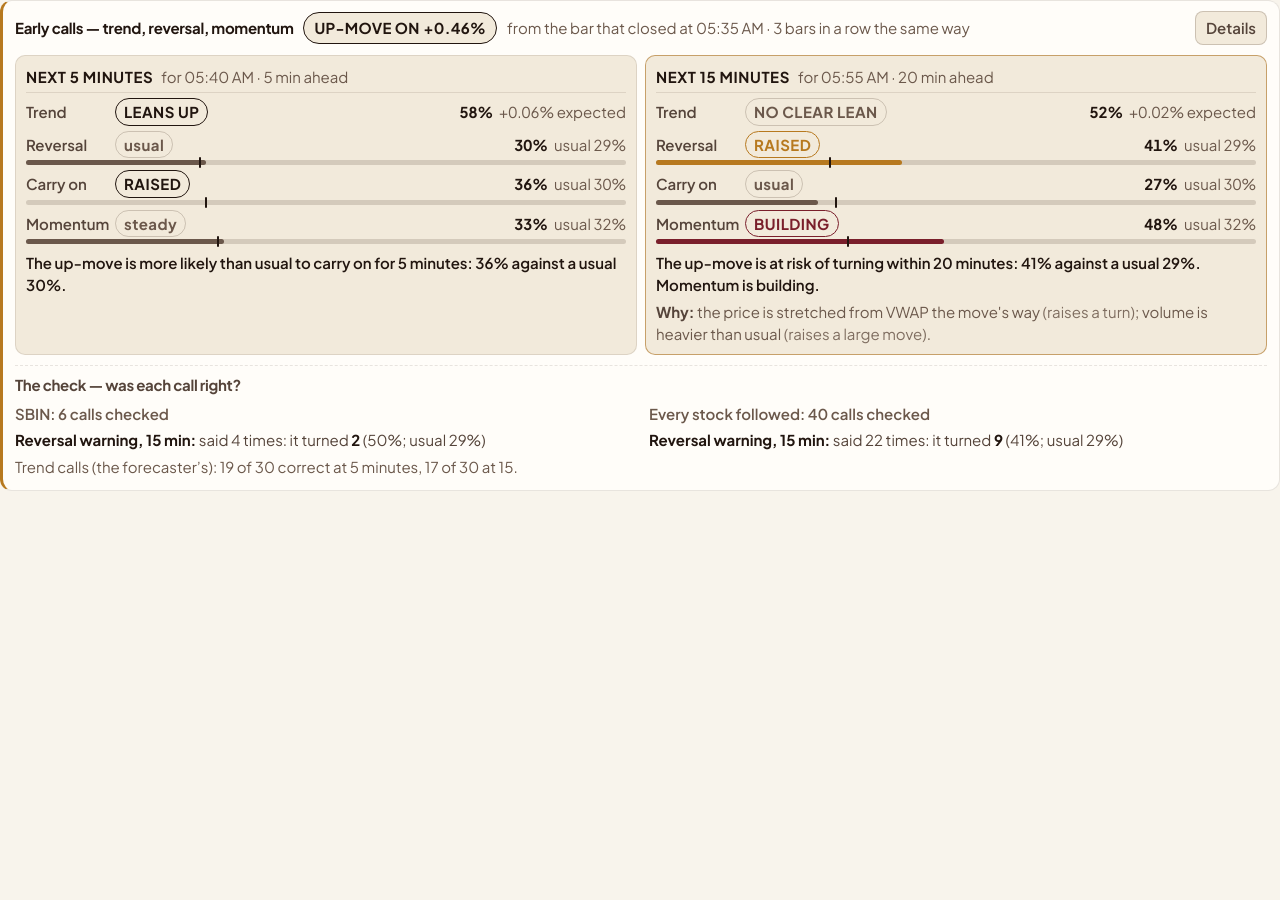
Test: the check is on the card: how often a warned reversal really came, for this stock and for all; the details hold the proof on unseen sessions
Expected: the heading "The check — was each call right?" is shown, [15,374,241,394]
Expected: the text "SBIN: 6 calls checked" is shown, [15,404,169,423]
What coordinates should you click on to do the following:
click the button "Details"
I would click on:
 (1231, 28)
Its box is [1195,11,1267,44].
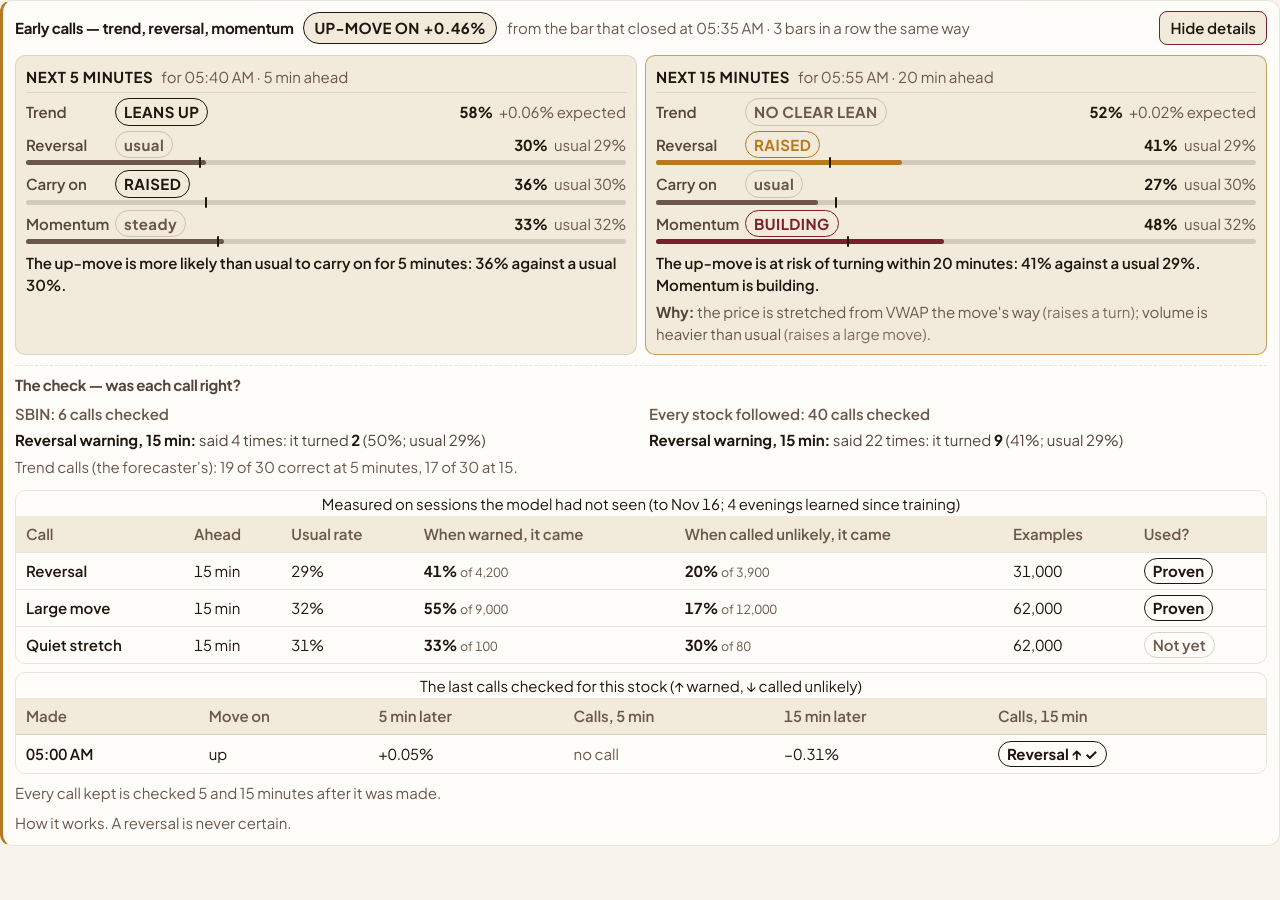
Now the text "Measured on sessions the model had not seen" is shown, box [322,494,671,513]
Now the row "Reversal 15 min 29% 41% of 4,200 20% of 3,900 31,000 Proven" is shown, box [16,552,1266,589]
Now the row "Quiet stretch 15 min 31% 33% of 100 30% of 80 62,000 Not yet" is shown, box [16,626,1266,663]
